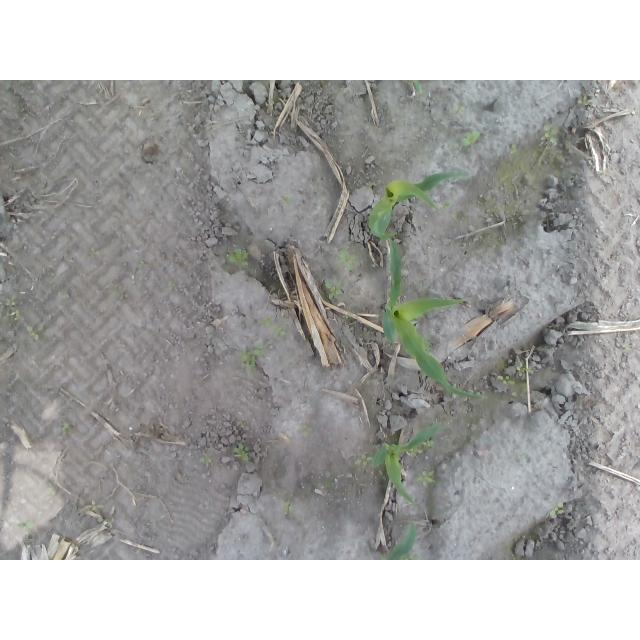Maize: (381, 236, 491, 402), (368, 171, 472, 238), (371, 422, 446, 506), (383, 520, 419, 560)
Weeds: (241, 347, 267, 373), (84, 501, 110, 522), (407, 439, 433, 458), (5, 297, 23, 323), (337, 248, 358, 268), (461, 130, 481, 150), (227, 248, 250, 264), (416, 471, 437, 488), (325, 284, 344, 301), (105, 284, 123, 301), (541, 126, 557, 144), (244, 318, 276, 327), (235, 443, 250, 462), (26, 324, 46, 338), (498, 375, 518, 389), (514, 364, 534, 377), (548, 504, 564, 520), (15, 522, 38, 533), (412, 81, 425, 96), (302, 425, 315, 438), (199, 454, 213, 466), (355, 457, 370, 468), (281, 195, 293, 206), (276, 326, 287, 338), (233, 421, 247, 430), (578, 98, 593, 106), (506, 144, 518, 153), (282, 500, 291, 512), (60, 424, 68, 437), (136, 259, 145, 269), (456, 106, 467, 114), (91, 247, 100, 256), (169, 279, 176, 289), (64, 293, 71, 300)
